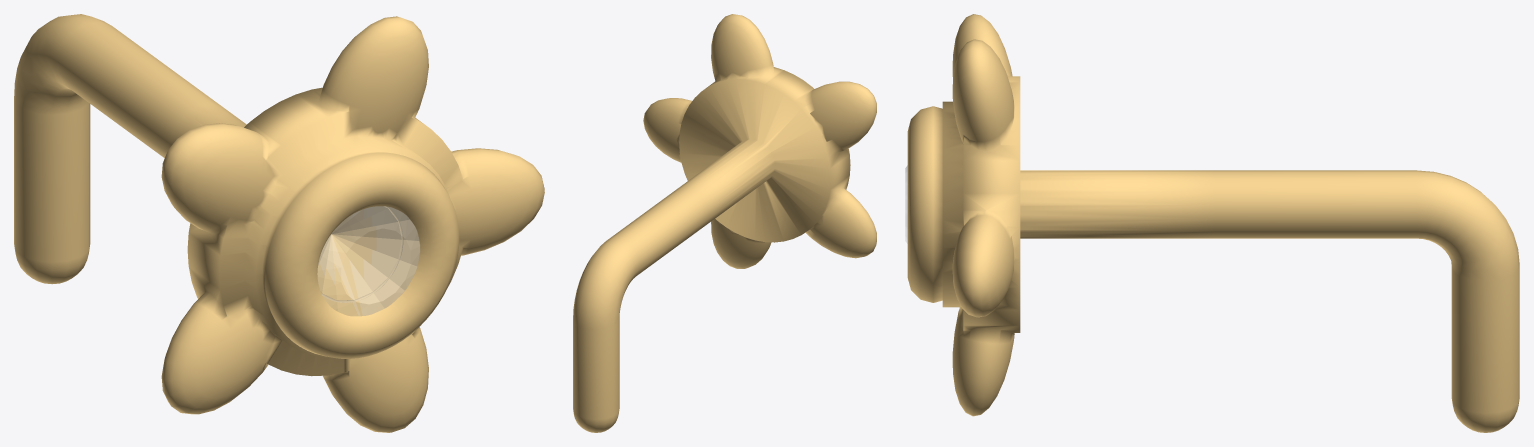
File: nosepin_flower.glb
3 renders of one model, left to right at view 1: azimuth 30°, elevation 25°; view 2: azimuth 150°, elevation 25°; view 3: azimuth 270°, elevation 25°, orthographic. The views are drawn at different scales.
Parts seen in each view (by area): view 1: gold, fl_stone; view 2: gold; view 3: gold.
Part boxes in pixels (box(x1,y1,x2,y2)): gold: box(14, 14, 544, 432); fl_stone: box(317, 206, 419, 315); gold: box(573, 14, 876, 432); gold: box(907, 14, 1519, 432).
Bounding box in the file's own units: 0.00458 × 0.00528 × 0.00717.
